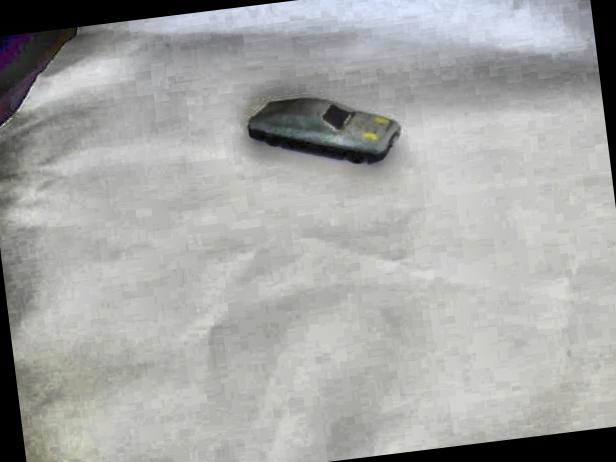normal_car: (234, 78, 405, 184)
